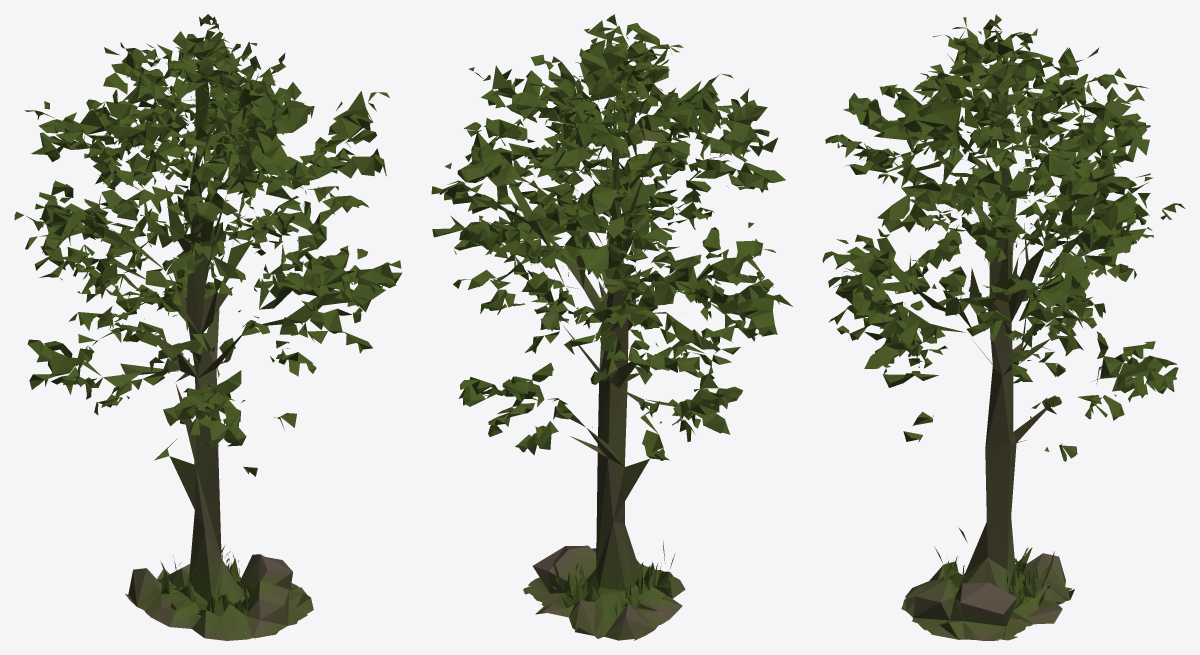
File: lib_tp_tanbi.vc.glb
The picture shows the model from 3 angles, left to right: view 1: azimuth 30°, elevation 25°; view 2: azimuth 150°, elevation 25°; view 3: azimuth 270°, elevation 25°; orthographic projection.
Parts seen in each view (by area): view 1: lib_tp_tanbi; view 2: lib_tp_tanbi; view 3: lib_tp_tanbi.
Part boxes in pixels (<box>): lib_tp_tanbi: <box>14,14,401,640</box>; lib_tp_tanbi: <box>431,14,792,640</box>; lib_tp_tanbi: <box>822,14,1185,640</box>.
Bounding box in the file's own units: 1.04 × 1.89 × 1.06.
